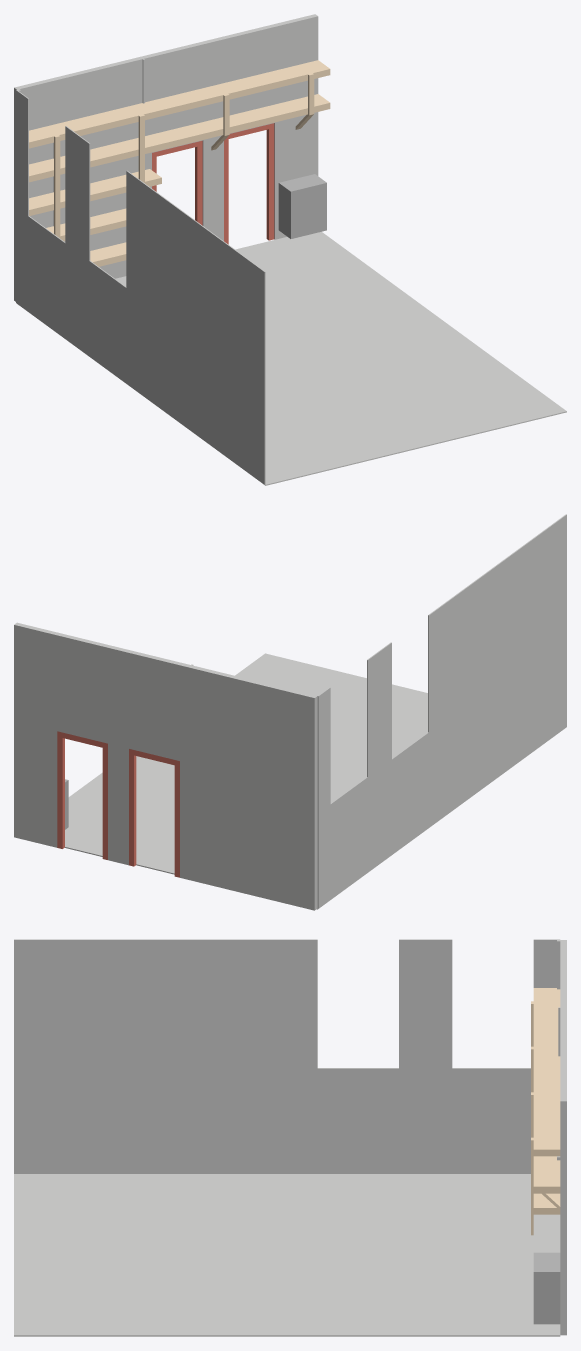
Rendered from shelves.glb.
3 views of the same model, one above another, from view 1: azimuth 30°, elevation 25°; view 2: azimuth 150°, elevation 25°; view 3: azimuth 270°, elevation 25° (orthographic). The views are drawn at different scales.
Visible parts, largest first — view 1: Body2, Body6, Body1, Body5.001, Body7, Body5, Body3, Body12, Body10, Body8, Body4, Body21 (+1 smaller); view 2: Body1, Body2, Body6, Body3, Body4; view 3: Body2, Body6, Body5.001, Body1, Body5, Body7.
Part boxes in pixels (bbox=[...]): Body2: bbox=[16, 90, 265, 484]; Body6: bbox=[115, 231, 566, 485]; Body1: bbox=[14, 14, 318, 301]; Body5.001: bbox=[29, 60, 330, 143]; Body7: bbox=[29, 94, 330, 177]; Body5: bbox=[278, 174, 326, 238]; Body3: bbox=[224, 123, 274, 244]; Body12: bbox=[29, 70, 330, 148]; Body10: bbox=[29, 104, 330, 182]; Body8: bbox=[29, 169, 161, 210]; Body4: bbox=[152, 140, 202, 225]; Body21: bbox=[54, 135, 60, 238]; Body1: bbox=[14, 622, 318, 910]; Body2: bbox=[317, 514, 566, 908]; Body6: bbox=[65, 653, 427, 909]; Body3: bbox=[57, 731, 107, 859]; Body4: bbox=[129, 749, 179, 877]; Body2: bbox=[14, 939, 560, 1173]; Body6: bbox=[14, 1174, 560, 1336]; Body5.001: bbox=[533, 988, 560, 1150]; Body1: bbox=[557, 940, 566, 1335]; Body5: bbox=[533, 1252, 560, 1324]; Body7: bbox=[533, 1156, 560, 1187].
Bounding box in the file's own units: 5.78 × 3.91 × 8.34.
